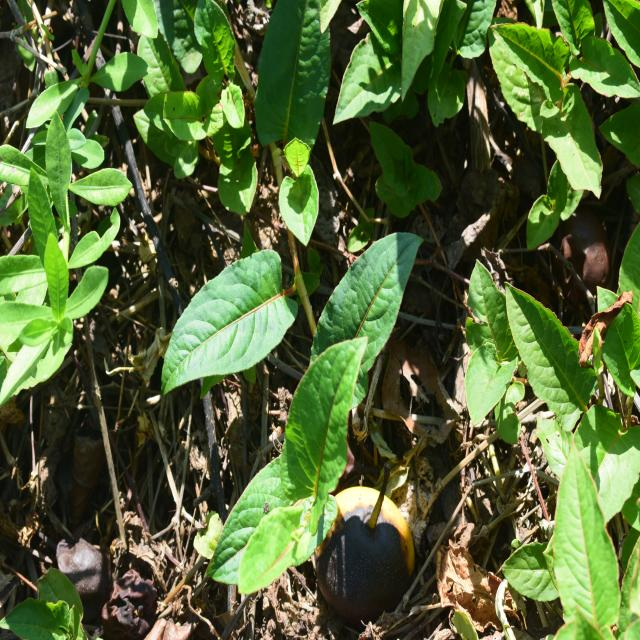Chinese_knotweed: (188, 223, 408, 574)
